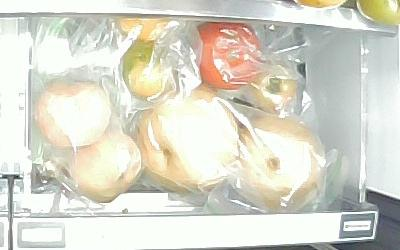peach_vinyl: (67, 129, 142, 205), (34, 80, 112, 147)
pear_vinyl: (137, 90, 238, 193), (233, 115, 326, 211)
tangerine_vinyl: (119, 41, 173, 97)
tomato_vinyl: (196, 21, 263, 89), (253, 64, 299, 115)
